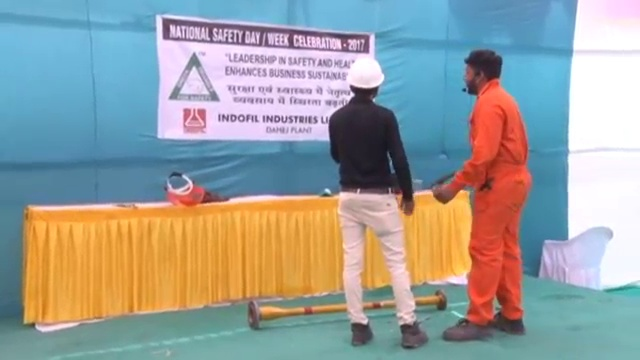helmet: (346, 57, 385, 90)
helmet_off: (461, 49, 501, 96)
helmet_on: (342, 53, 384, 104)
person: (323, 52, 433, 350), (430, 47, 537, 344)
